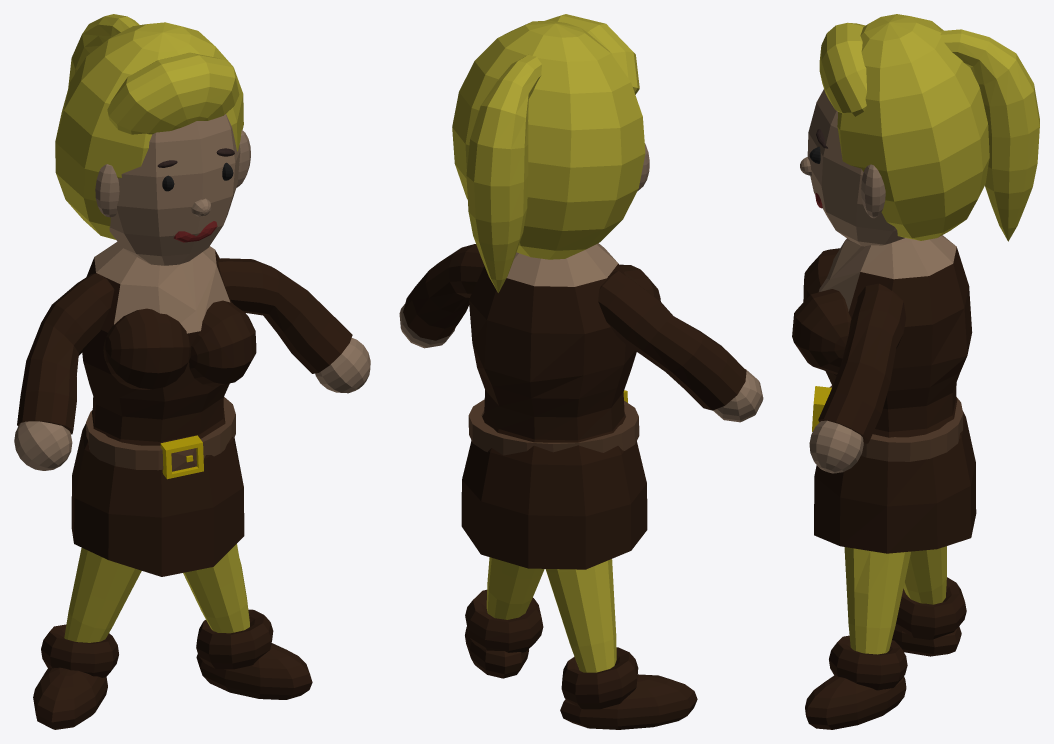
File: Character05.fbx
3 views of the same model, side by side, from view 1: azimuth 30°, elevation 25°; view 2: azimuth 150°, elevation 25°; view 3: azimuth 270°, elevation 25° (orthographic).
Visible parts, largest first — view 1: Villager06; view 2: Villager06; view 3: Villager06.
Boxes of the visible parts, x1,y1,x2,y2 form: Villager06: [14, 14, 370, 729]; Villager06: [399, 14, 763, 729]; Villager06: [792, 14, 1039, 729].
Size of the model in its own units: 0.2606 by 0.4701 by 0.1606.
